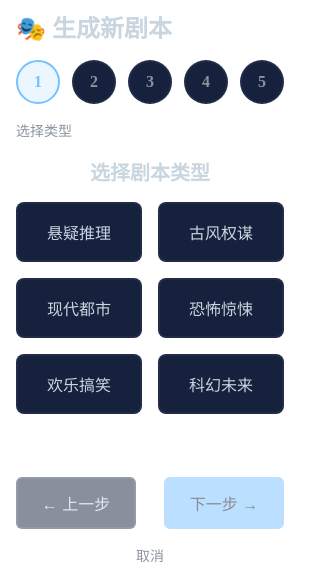
Test: ScriptGenerateWizard › Navigation Buttons › enables next button when genre selected
What coordinates should you click on to do the following:
click the button "悬疑推理"
I would click on:
 (79, 232)
Its box is [16,202,142,262].
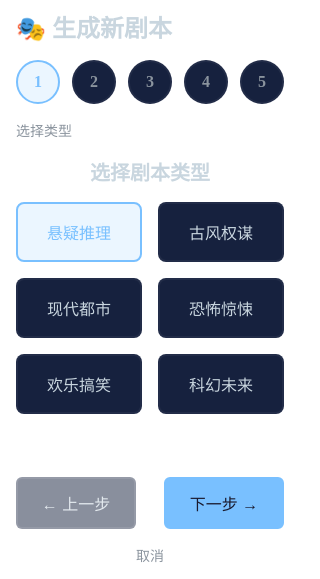
Expected: the button "下一步 →" is enabled, [164,477,284,529]
